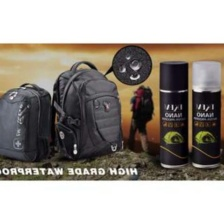aerosol_cans: (186, 57, 223, 171), (156, 58, 192, 170)
